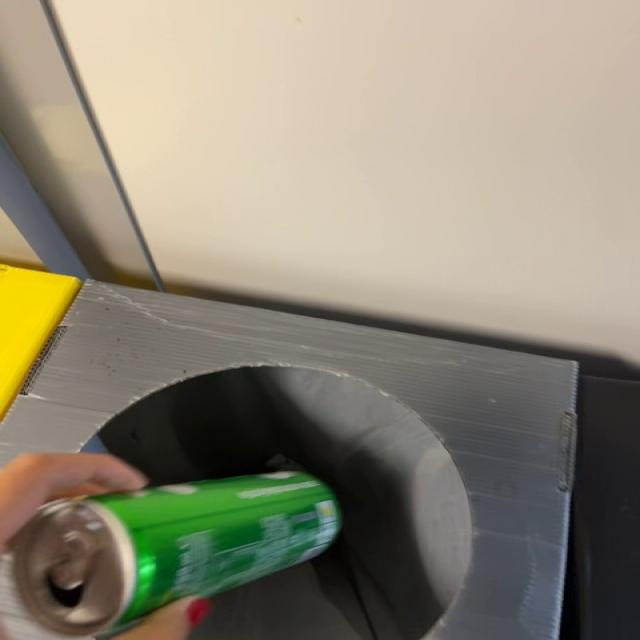bin: (1, 282, 579, 640)
metal: (11, 473, 341, 636)
